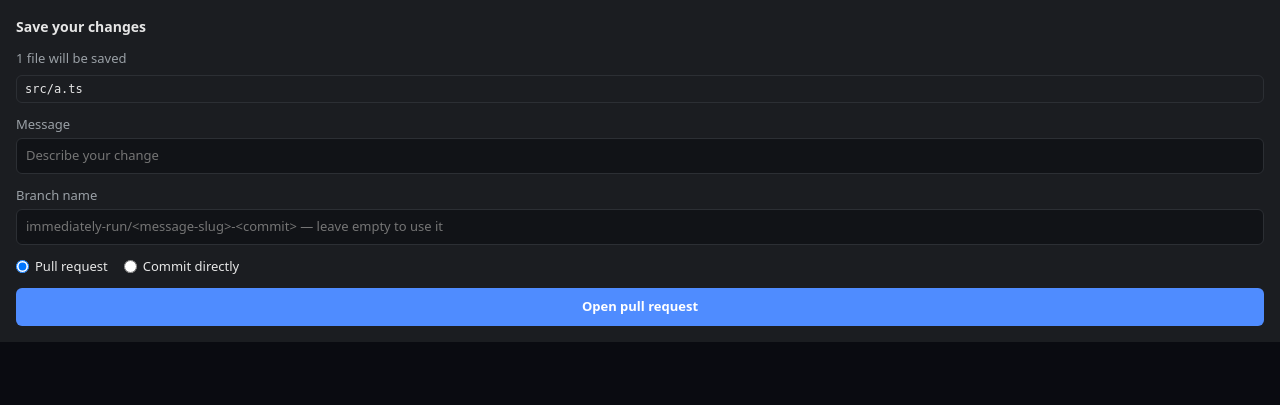
Contribute — the recovery actions (R3-994, CONTRIBUTE_SPEC §12) › an unknown or absent recovery renders the bare message and no action
Click the button "Open pull request".
click(640, 307)  # box left=16, top=288, right=1264, bottom=326
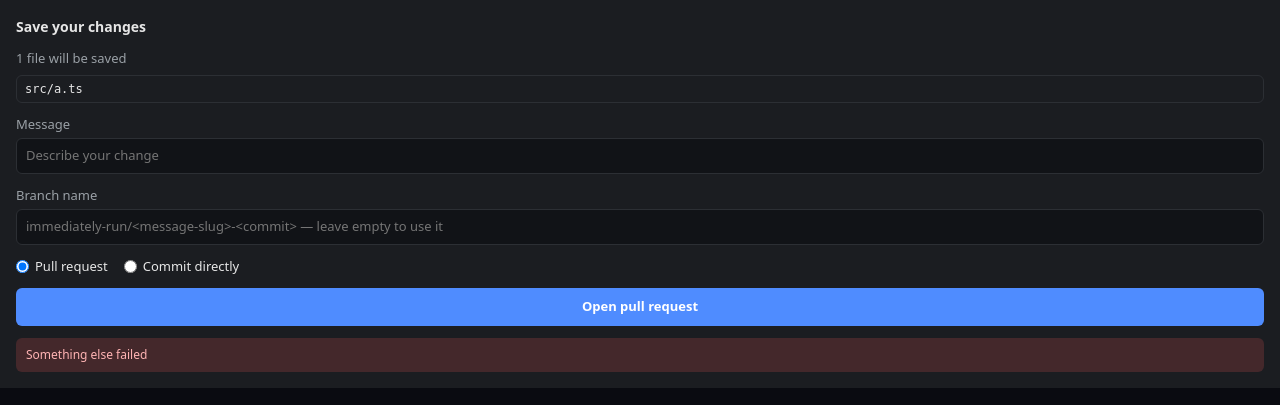
Expected: the text "Something else failed" is shown, left=16, top=338, right=1264, bottom=372
